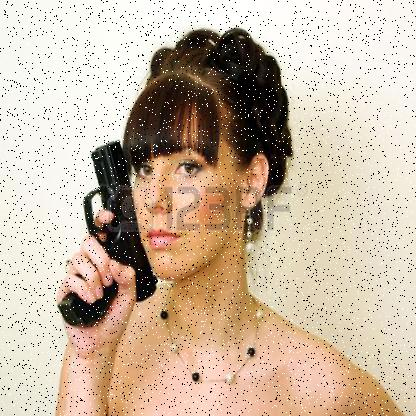pistol: (57, 126, 157, 316)
